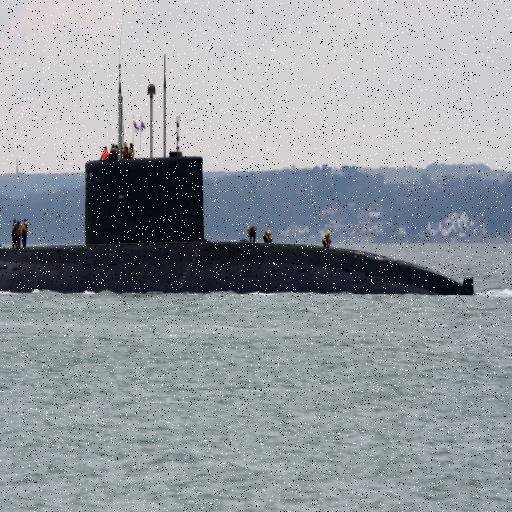submarine: (1, 155, 479, 295)
